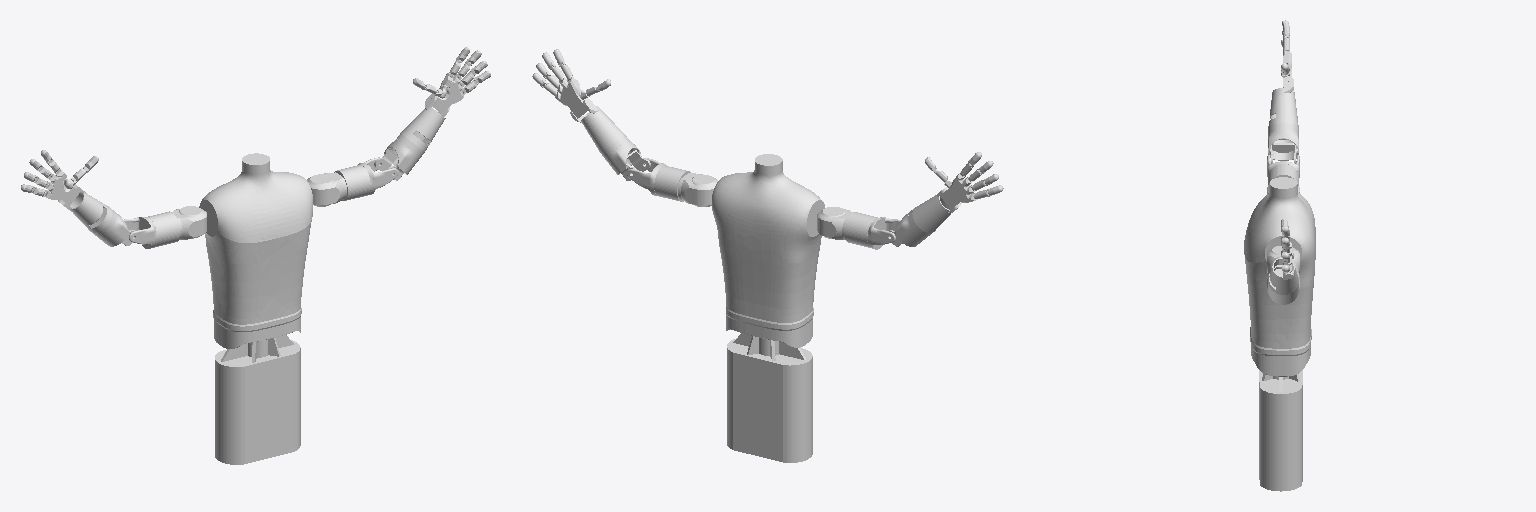
--- Facts derived from the render (not from the file) ---
Views: 3 orthographic renders of the robot side by side, from view 1: azimuth 30°, elevation 25°; view 2: azimuth 150°, elevation 25°; view 3: azimuth 270°, elevation 25°.
Robot: pib — 39 links, 38 joints (36 revolute, 2 fixed); root link base_link; default pose: all joints at 0.
Links seen in each view (by area): view 1: urdf_body, urdf_shoulder_horizontal, urdf_shoulder_horizontal_2, urdf_forearm, urdf_forearm_2, urdf_elbow-lower, urdf_elbow-upper_2, urdf_palm_left, urdf_palm_right, urdf_elbow-lower_2, urdf_elbow-upper; view 2: urdf_body, urdf_shoulder_horizontal, urdf_shoulder_horizontal_2, urdf_forearm, urdf_forearm_2, urdf_elbow-lower, urdf_elbow-upper_2, urdf_palm_left, urdf_palm_right, urdf_elbow-lower_2, urdf_elbow-upper; view 3: urdf_body, urdf_forearm_2, urdf_elbow-lower_2, urdf_forearm.
Link boxes in pixels (x1,y1,x2,y2): urdf_body: (199, 153, 312, 464); urdf_shoulder_horizontal: (307, 165, 370, 206); urdf_shoulder_horizontal_2: (148, 206, 206, 247); urdf_forearm: (397, 94, 449, 156); urdf_forearm_2: (58, 184, 115, 235); urdf_elbow-lower: (374, 139, 420, 180); urdf_elbow-upper_2: (124, 217, 156, 248); urdf_palm_left: (432, 73, 465, 114); urdf_palm_right: (43, 169, 79, 205); urdf_elbow-lower_2: (95, 212, 134, 246); urdf_elbow-upper: (358, 157, 397, 195); urdf_body: (712, 154, 824, 462); urdf_shoulder_horizontal: (654, 166, 717, 206); urdf_shoulder_horizontal_2: (817, 207, 877, 247); urdf_forearm: (570, 98, 628, 157); urdf_forearm_2: (908, 187, 960, 235); urdf_elbow-lower: (605, 140, 650, 180); urdf_elbow-upper_2: (867, 217, 900, 249); urdf_palm_left: (555, 76, 587, 118); urdf_palm_right: (940, 172, 977, 209); urdf_elbow-lower_2: (889, 212, 927, 246); urdf_elbow-upper: (627, 158, 666, 195); urdf_body: (1244, 177, 1315, 491); urdf_forearm_2: (1268, 76, 1298, 139); urdf_elbow-lower_2: (1268, 130, 1298, 163); urdf_forearm: (1268, 252, 1298, 296).
Size in the robot's own frame: 1.58 by 0.2094 by 1.12 metres.
Meshes: 15 distinct files referenced, 33 mesh visuals loaded (11 binary STL); not drawn: 5 (reference not matched to a file when rendering).

robot.urdf — pib:
<robot name="pib">
<link name="base_link"></link>
<joint name="base_link_to_base" type="fixed">
<parent link="base_link"/>
<child link="urdf_body" />
<origin rpy="0.0 0 0" xyz="0 0 0"/>
</joint>
<link name="urdf_body">
<visual>
<origin xyz="-0.013132987582171207555 0.012566156500572068372 0.89118743593020444127" rpy="0 -0 0" />
<geometry>
<mesh filename="./urdf_body.stl"/>
</geometry>
<material name="urdf_body_material">
<color rgba="0.90196078431372550543 0.90196078431372550543 0.90196078431372550543 1.0"/>
</material>
</visual>
<collision>
<origin xyz="-0.013132987582171207555 0.012566156500572068372 0.89118743593020444127" rpy="0 -0 0" />
<geometry>
<mesh filename="./urdf_body.stl"/>
</geometry>
</collision>
<inertial>
<origin xyz="-0.013148572994685497894 0.0062708327937176754074 0.3390600811380728441" rpy="0 0 0"/>
<mass value="14.742451245988362984" />
<inertia ixx="1.0215370085595509853" ixy="8.1750220923067520971e-07"  ixz="2.0415306187995358275e-05" iyy="1.0802675023496579598" iyz="-0.0086376981174313364337" izz="0.10390259338508466003" />
</inertial>
</link>

<link name="urdf_head_base">
<visual>
<origin xyz="0 1.7347234759768070944e-18 0.096600000000000019185" rpy="3.141592653589793116 -0 -5.2519588314391687104e-19" />
<geometry>
<mesh filename="./urdf_head_base.stl"/>
</geometry>
<material name="urdf_head_base_material">
<color rgba="0.90196078431372550543 0.90196078431372550543 0.90196078431372550543 1.0"/>
</material>
</visual>
<collision>
<origin xyz="0 1.7347234759768070944e-18 0.096600000000000019185" rpy="3.141592653589793116 -0 -5.2519588314391687104e-19" />
<geometry>
<mesh filename="./urdf_head_base.stl"/>
</geometry>
</collision>
<inertial>
<origin xyz="-3.4780229255899585664e-05 0.017377672968967167177 -0.012899139977839313431" rpy="0 0 0"/>
<mass value="0.2752183787437366691" />
<inertia ixx="0.00026904306851896188585" ixy="4.9266012202656627337e-07"  ixz="-1.9175035112766405392e-09" iyy="0.00016134789791135662157" iyz="-1.2039857658914160575e-08" izz="0.00039920756811286805697" />
</inertial>
</link>

<link name="urdf_head">
<visual>
<origin xyz="0.048000000000000014877 0.10950000000000004174 -0.041750000000000002387" rpy="1.570796326794896558 1.570796326794896558 0" />
<geometry>
<mesh filename="./urdf_head.stl"/>
</geometry>
<material name="urdf_head_material">
<color rgba="0.90196078431372550543 0.90196078431372550543 0.90196078431372550543 1.0"/>
</material>
</visual>
<collision>
<origin xyz="0.048000000000000014877 0.10950000000000004174 -0.041750000000000002387" rpy="1.570796326794896558 1.570796326794896558 0" />
<geometry>
<mesh filename="./urdf_head.stl"/>
</geometry>
</collision>
<inertial>
<origin xyz="-0.010752349739485883573 -0.069547124687647815522 -0.041747581920920449894" rpy="0 0 0"/>
<mass value="0.51230822453493207735" />
<inertia ixx="0.0045866170752479808875" ixy="0.00041100822612432741203"  ixz="2.2896139325064005489e-06" iyy="0.003546183171123245409" iyz="5.7328545887266115502e-07" izz="0.0027748989212668900665" />
</inertial>
</link>

<link name="urdf_camera_link">
<visual>
<origin xyz="-0.00024999999999998807898 0.10823202427590994379 0.09539999999999999869" rpy="1.570796326794896558 2.7161820220443780355e-20 0" />
<geometry>
<mesh filename="./urdf_camera_link.stl"/>
</geometry>
<material name="urdf_camera_link_material">
<color rgba="0 0 0 1.0"/>
</material>
</visual>
<collision>
<origin xyz="-0.00024999999999998807898 0.10823202427590994379 0.09539999999999999869" rpy="1.570796326794896558 2.7161820220443780355e-20 0" />
<geometry>
<mesh filename="./urdf_camera_link.stl"/>
</geometry>
</collision>
<inertial>
<origin xyz="2.4053025196590915868e-16 4.1633363423443370266e-17 -0.0015000000000000152101" rpy="0 0 0"/>
<mass value="0.011584290081750131529" />
<inertia ixx="3.233128653290471716e-07" ixy="0"  ixz="-3.1009920596281262703e-24" iyy="6.4039677650293876714e-06" iyz="0" izz="6.7099041952358088781e-06" />
</inertial>
</link>

<joint name="camera" type="fixed">
<origin xyz="-0.04740000000000000463 0.0012679757240900979554 -0.04199999999999999567" rpy="2.4502643717466608141e-31 1.570796326794896558 0" />
<parent link="urdf_head" />
<child link="urdf_camera_link" />
<axis xyz="0 0 1"/>
<limit effort="1" velocity="20" />
<joint_properties friction="0.0"/>
</joint>

<joint name="head_vertical" type="revolute">
<origin xyz="-0.041250000000000008882 0.048000000000000021816 -0.012899999999999911537" rpy="1.570796326794896558 -2.7286008646779410258e-19 -1.5707963267948970021" />
<parent link="urdf_head_base" />
<child link="urdf_head" />
<axis xyz="0 0 1"/>
<limit effort="1" velocity="20" lower="-0.785398163397448279" upper="1.2217304763960306069"/>
<joint_properties friction="0.0"/>
</joint>

<joint name="head_horizontal" type="revolute">
<origin xyz="-0.013133585993821498758 0.012566127962098751214 0.98718743593020441551" rpy="3.141592653589793116 1.265248665445670253e-22 -0.0029026197161877579159" />
<parent link="urdf_body" />
<child link="urdf_head_base" />
<axis xyz="0 0 1"/>
<limit effort="1" velocity="20" lower="-1.570796326794896558" upper="1.570796326794896558"/>
<joint_properties friction="0.0"/>
</joint>

<link name="urdf_shoulder_vertical">
<visual>
<origin xyz="-4.7531423241764514387e-16 1.1102230246251565404e-16 -0.0060000000000000053291" rpy="3.141592653589793116 -1.570796326794896558 0" />
<geometry>
<mesh filename="./urdf_shoulder_vertical.stl"/>
</geometry>
<material name="urdf_shoulder_vertical_material">
<color rgba="0.90196078431372550543 0.90196078431372550543 0.90196078431372550543 1.0"/>
</material>
</visual>
<collision>
<origin xyz="-4.7531423241764514387e-16 1.1102230246251565404e-16 -0.0060000000000000053291" rpy="3.141592653589793116 -1.570796326794896558 0" />
<geometry>
<mesh filename="./urdf_shoulder_vertical.stl"/>
</geometry>
</collision>
<inertial>
<origin xyz="-4.7586038048089654607e-16 1.006971519153712357e-16 0.042642994191431304873" rpy="0 0 0"/>
<mass value="0.25000000000000005551" />
<inertia ixx="0.00072724079589201362679" ixy="-3.0188325501274182905e-66"  ixz="2.1951035501926014558e-43" iyy="0.00047340124215038056074" iyz="1.5330919207955027425e-42" izz="0.00067680797638553576341" />
</inertial>
</link>

<link name="urdf_shoulder_horizontal">
<visual>
<origin xyz="0 -0.06500000000000000222 -0.037200000000000010836" rpy="-1.570796326794896558 1.1055592553687724786e-32 1.570796326794896558" />
<geometry>
<mesh filename="./urdf_shoulder_horizontal.stl"/>
</geometry>
<material name="urdf_shoulder_horizontal_material">
<color rgba="0.90196078431372550543 0.90196078431372550543 0.90196078431372550543 1.0"/>
</material>
</visual>
<collision>
<origin xyz="0 -0.06500000000000000222 -0.037200000000000010836" rpy="-1.570796326794896558 1.1055592553687724786e-32 1.570796326794896558" />
<geometry>
<mesh filename="./urdf_shoulder_horizontal.stl"/>
</geometry>
</collision>
<inertial>
<origin xyz="0.03141565709210976387 1.2792556070007066182e-08 -0.037199999558260789245" rpy="0 0 0"/>
<mass value="0.3499999999999999778" />
<inertia ixx="0.00037058906386676219221" ixy="1.2826983306073644798e-10"  ixz="7.7908665627271018081e-11" iyy="0.00079724647302412360392" iyz="1.228809034117499628e-10" izz="0.00084576167306383361229" />
</inertial>
</link>

<link name="urdf_elbow-upper">
<visual>
<origin xyz="-0.065000113126188405199 8.9579510675896756311e-07 0.14000000000000004108" rpy="-8.5703882523829208117e-32 -1.4514740933281445424e-31 -8.4163138569722206779e-32" />
<geometry>
<mesh filename="./urdf_elbow-upper.stl"/>
</geometry>
<material name="urdf_elbow-upper_material">
<color rgba="0.90196078431372550543 0.90196078431372550543 0.90196078431372550543 1.0"/>
</material>
</visual>
<collision>
<origin xyz="-0.065000113126188405199 8.9579510675896756311e-07 0.14000000000000004108" rpy="-8.5703882523829208117e-32 -1.4514740933281445424e-31 -8.4163138569722206779e-32" />
<geometry>
<mesh filename="./urdf_elbow-upper.stl"/>
</geometry>
</collision>
<inertial>
<origin xyz="-4.4526328486782507099e-07 -0.0056136834333763933197 -0.021290240894863005083" rpy="0 0 0"/>
<mass value="0.21700098433583239754" />
<inertia ixx="0.00020767324075755694561" ixy="-4.6362216441835536371e-10"  ixz="-1.1291109162268427319e-09" iyy="0.0003257830855249441767" iyz="-2.9777665381350169389e-05" izz="0.00031634043511068947289" />
</inertial>
</link>

<link name="urdf_elbow-lower">
<visual>
<origin xyz="-0.13812409200567399292 -0.16782384366109792673 0.027200113126188380647" rpy="2.356194490192344837 1.570796326794896558 0" />
<geometry>
<mesh filename="./urdf_elbow-lower.stl"/>
</geometry>
<material name="urdf_elbow-lower_material">
<color rgba="0.90196078431372550543 0.90196078431372550543 0.90196078431372550543 1.0"/>
</material>
</visual>
<collision>
<origin xyz="-0.13812409200567399292 -0.16782384366109792673 0.027200113126188380647" rpy="2.356194490192344837 1.570796326794896558 0" />
<geometry>
<mesh filename="./urdf_elbow-lower.stl"/>
</geometry>
</collision>
<inertial>
<origin xyz="0.043032345513961067773 0.015369344989338867835 -0.03780034354696912291" rpy="0 0 0"/>
<mass value="0.14960335360770107838" />
<inertia ixx="0.00022936722111307648528" ixy="-5.4529749402997813423e-06"  ixz="-4.3421495042449351756e-09" iyy="0.0002490971711453321088" iyz="1.4345465837917943145e-09" izz="0.00016870950008625071694" />
</inertial>
</link>

<link name="urdf_forearm">
<visual>
<origin xyz="-0.064741926567294549866 -0.00046870620534839035898 0.3034378600000000592" rpy="2.6458629090172392865e-18 1.0970096963229695419e-30 -6.1629758220391547298e-31" />
<geometry>
<mesh filename="./urdf_forearm.stl"/>
</geometry>
<material name="urdf_forearm_material">
<color rgba="0.90196078431372550543 0.90196078431372550543 0.90196078431372550543 1.0"/>
</material>
</visual>
<collision>
<origin xyz="-0.064741926567294549866 -0.00046870620534839035898 0.3034378600000000592" rpy="2.6458629090172392865e-18 1.0970096963229695419e-30 -6.1629758220391547298e-31" />
<geometry>
<mesh filename="./urdf_forearm.stl"/>
</geometry>
</collision>
<inertial>
<origin xyz="0.0018761096199147175856 -4.4442311054501113136e-07 -0.050267094888194197022" rpy="0 0 0"/>
<mass value="0.057000000000000022871" />
<inertia ixx="0.00018119182777985410964" ixy="-2.0579821295390018919e-10"  ixz="7.3610097522744023874e-06" iyy="0.00017182225954469557291" iyz="-2.1213780997072684154e-09" izz="6.8995586508010560292e-05" />
</inertial>
</link>

<link name="urdf_palm_left">
<visual>
<origin xyz="0.00299999999999990552 -0.10000000000000008882 -0.18269999999999986251" rpy="1.570796326794896558 1.5707963267948961139 0" />
<geometry>
<mesh filename="./urdf_palm_left.stl"/>
</geometry>
<material name="urdf_palm_left_material">
<color rgba="0.90196078431372550543 0.90196078431372550543 0.90196078431372550543 1.0"/>
</material>
</visual>
<collision>
<origin xyz="0.00299999999999990552 -0.10000000000000008882 -0.18269999999999986251" rpy="1.570796326794896558 1.5707963267948961139 0" />
<geometry>
<mesh filename="./urdf_palm_left.stl"/>
</geometry>
</collision>
<inertial>
<origin xyz="0.0020987363637513193476 -0.041510352722250141999 -0.022975098204301658278" rpy="0 0 0"/>
<mass value="0.20306541431131835962" />
<inertia ixx="0.00025623389388053878632" ixy="-4.7921056976145965743e-07"  ixz="-1.9621105672899708542e-06" iyy="8.7454457046403348162e-05" iyz="-7.343814954060609156e-06" izz="0.00019183883445444719295" />
</inertial>
</link>

<link name="urdf_thumb_rotator_left">
<visual>
<origin xyz="0.088236460769996402642 -0.078348848981385763035 -0.48802748055539579841" rpy="-2.932153143350473723 -2.782946186187463531e-17 -3.141592653589793116" />
<geometry>
<mesh filename="./urdf_thumb_rotator_left.stl"/>
</geometry>
<material name="urdf_thumb_rotator_left_material">
<color rgba="0.90196078431372550543 0.90196078431372550543 0.90196078431372550543 1.0"/>
</material>
</visual>
<collision>
<origin xyz="0.088236460769996402642 -0.078348848981385763035 -0.48802748055539579841" rpy="-2.932153143350473723 -2.782946186187463531e-17 -3.141592653589793116" />
<geometry>
<mesh filename="./urdf_thumb_rotator_left.stl"/>
</geometry>
</collision>
<inertial>
<origin xyz="-0.0025419525965153094704 0.00063582665531473903098 -0.005730676783377131045" rpy="0 0 0"/>
<mass value="0.019598631427577496017" />
<inertia ixx="2.3515796946329439863e-06" ixy="1.5634947145857046287e-07"  ixz="-3.8747705154697874774e-07" iyy="2.9068174466283953522e-06" iyz="6.3565590282101302119e-08" izz="1.9521874764506291667e-06" />
</inertial>
</link>

<link name="urdf_finger_proximal">
<visual>
<origin xyz="-0.081395940769996233399 -0.54244426802547995869 -0.061495438727617535157" rpy="1.7453292519943297556 -3.6417218234288628174e-16 -1.5556491259539178272e-16" />
<geometry>
<mesh filename="./urdf_finger_proximal.stl"/>
</geometry>
<material name="urdf_finger_proximal_material">
<color rgba="0.90196078431372550543 0.90196078431372550543 0.90196078431372550543 1.0"/>
</material>
</visual>
<collision>
<origin xyz="-0.081395940769996233399 -0.54244426802547995869 -0.061495438727617535157" rpy="1.7453292519943297556 -3.6417218234288628174e-16 -1.5556491259539178272e-16" />
<geometry>
<mesh filename="./urdf_finger_proximal.stl"/>
</geometry>
</collision>
<inertial>
<origin xyz="-0.002337546325976047612 0.023999998253825594041 -3.4234414331146818838e-09" rpy="0 0 0"/>
<mass value="0.017237431172515048361" />
<inertia ixx="3.2796100873748338587e-06" ixy="-2.4787878097927551186e-13"  ixz="4.3676988672143376902e-13" iyy="8.3091893062354247182e-07" iyz="-6.0838833034707138977e-14" izz="3.2415371409603653756e-06" />
</inertial>
</link>

<link name="urdf_finger_distal">
<visual>
<origin xyz="-0.081281787715045794585 -0.59056528241925143607 -0.06149543872761764618" rpy="1.7453292519943297556 -2.8784252333169289564e-16 3.9639590148360196859e-17" />
<geometry>
<mesh filename="./urdf_finger_distal.stl"/>
</geometry>
<material name="urdf_finger_distal_material">
<color rgba="0.90196078431372550543 0.90196078431372550543 0.90196078431372550543 1.0"/>
</material>
</visual>
<collision>
<origin xyz="-0.081281787715045794585 -0.59056528241925143607 -0.06149543872761764618" rpy="1.7453292519943297556 -2.8784252333169289564e-16 3.9639590148360196859e-17" />
<geometry>
<mesh filename="./urdf_finger_distal.stl"/>
</geometry>
</collision>
<inertial>
<origin xyz="-0.004057225687468912767 0.024625911989551330095 -1.8077329383414664221e-08" rpy="0 0 0"/>
<mass value="0.017727854940120840038" />
<inertia ixx="3.2103559738202121377e-06" ixy="4.3523325608261775987e-07"  ixz="2.2812163347891701524e-12" iyy="9.9539225899604394283e-07" iyz="-6.0407081610536284176e-12" izz="3.1902417616991331003e-06" />
</inertial>
</link>

<joint name="thumb_left_distal" type="revolute">
<origin xyz="-4.4408920985006261617e-16 0.0480000000000008753 1.1102230246251565404e-16" rpy="3.4043456053708097799e-15 1.6500215347754368378e-14 -1.4669653638037516986e-15" />
<parent link="urdf_finger_proximal" />
<child link="urdf_finger_distal" />
<axis xyz="0 0 1"/>
<limit effort="1" velocity="20" lower="0" upper="1.570796326794896558"/>
<joint_properties friction="0.0"/>
</joint>

<joint name="thumb_left_proximal" type="revolute">
<origin xyz="-0.01999999999999822059 0.0013202599999988413881 -0.010564960629478425957" rpy="-1.6969431916550940149e-15 1.0471975511965765371 1.5707963267949003328" />
<parent link="urdf_thumb_rotator_left" />
<child link="urdf_finger_proximal" />
<axis xyz="0 0 1"/>
<limit effort="1" velocity="20" lower="0" upper="1.570796326794896558"/>
<joint_properties friction="0.0"/>
</joint>

<joint name="thumb_left_opposition" type="revolute">
<origin xyz="0.0098405199999991727067 -0.037730520924623256462 -0.049771355293541652554" rpy="-3.1415926535897491512 -1.3613568165555565148 -1.5707963267948970021" />
<parent link="urdf_palm_left" />
<child link="urdf_thumb_rotator_left" />
<axis xyz="0 0 1"/>
<limit effort="1" velocity="20" lower="0" upper="1.570796326794896558"/>
<joint_properties friction="0.0"/>
</joint>

<link name="urdf_finger_proximal_2">
<visual>
<origin xyz="-0.081395940769996399933 -0.54244426802547995869 -0.061495438727617576791" rpy="1.7453292519943297556 -4.2001897567204022588e-16 1.9721522630525295135e-31" />
<geometry>
<mesh filename="./urdf_finger_proximal.stl"/>
</geometry>
<material name="urdf_finger_proximal_material">
<color rgba="0.90196078431372550543 0.90196078431372550543 0.90196078431372550543 1.0"/>
</material>
</visual>
<collision>
<origin xyz="-0.081395940769996399933 -0.54244426802547995869 -0.061495438727617576791" rpy="1.7453292519943297556 -4.2001897567204022588e-16 1.9721522630525295135e-31" />
<geometry>
<mesh filename="./urdf_finger_proximal.stl"/>
</geometry>
</collision>
<inertial>
<origin xyz="-0.002337546325976241901 0.023999998253825594041 -3.4234414747480461344e-09" rpy="0 0 0"/>
<mass value="0.017237431172515048361" />
<inertia ixx="3.2796100873748338587e-06" ixy="-2.4787878050339230564e-13"  ixz="4.3676988694551090822e-13" iyy="8.3091893062354247182e-07" iyz="-6.0838833167056036986e-14" izz="3.2415371409603666462e-06" />
</inertial>
</link>

<link name="urdf_finger_distal_2">
<visual>
<origin xyz="-0.081281787715045752951 -0.59056528241925121403 -0.06149543872761764618" rpy="1.7453292519943297556 -2.9755429575730562007e-16 3.6977854932234928379e-32" />
<geometry>
<mesh filename="./urdf_finger_distal.stl"/>
</geometry>
<material name="urdf_finger_distal_material">
<color rgba="0.90196078431372550543 0.90196078431372550543 0.90196078431372550543 1.0"/>
</material>
</visual>
<collision>
<origin xyz="-0.081281787715045752951 -0.59056528241925121403 -0.06149543872761764618" rpy="1.7453292519943297556 -2.9755429575730562007e-16 3.6977854932234928379e-32" />
<geometry>
<mesh filename="./urdf_finger_distal.stl"/>
</geometry>
</collision>
<inertial>
<origin xyz="-0.0040572256874689266448 0.024625911989551552139 -1.8077329355659088606e-08" rpy="0 0 0"/>
<mass value="0.017727854940120840038" />
<inertia ixx="3.2103559738202121377e-06" ixy="4.3523325608261749517e-07"  ixz="2.2812163348872217512e-12" iyy="9.9539225899604394283e-07" iyz="-6.0407081605918645342e-12" izz="3.1902417616991356414e-06" />
</inertial>
</link>

<joint name="index_left_distal" type="revolute">
<origin xyz="-3.1225022567582527699e-16 0.048000000000000042633 -1.4294121442048890458e-15" rpy="-5.7518190022400760837e-15 1.1644799210561622379e-15 -2.9122888551423500944e-16" />
<parent link="urdf_finger_proximal_2" />
<child link="urdf_finger_distal_2" />
<axis xyz="0 0 1"/>
<limit effort="1" velocity="20" lower="0" upper="1.570796326794896558"/>
<joint_properties friction="0.0"/>
</joint>

<joint name="index_left_proximal" type="revolute">
<origin xyz="0.0029999999999996383726 -0.088617510000000399017 -0.058501979999998954263" rpy="-0.17453292519941709937 3.5838313298522497607e-15 3.1415926535897922278" />
<parent link="urdf_palm_left" />
<child link="urdf_finger_proximal_2" />
<axis xyz="0 0 1"/>
<limit effort="1" velocity="20" lower="0" upper="1.570796326794896558"/>
<joint_properties friction="0.0"/>
</joint>

<link name="urdf_finger_proximal_3">
<visual>
<origin xyz="-0.081395940769996399933 -0.54244426802548006972 -0.061495438727617479646" rpy="1.7453292519943297556 -4.2001897567205274905e-16 -3.0854281107244765038e-30" />
<geometry>
<mesh filename="./urdf_finger_proximal.stl"/>
</geometry>
<material name="urdf_finger_proximal_material">
<color rgba="0.90196078431372550543 0.90196078431372550543 0.90196078431372550543 1.0"/>
</material>
</visual>
<collision>
<origin xyz="-0.081395940769996399933 -0.54244426802548006972 -0.061495438727617479646" rpy="1.7453292519943297556 -4.2001897567205274905e-16 -3.0854281107244765038e-30" />
<geometry>
<mesh filename="./urdf_finger_proximal.stl"/>
</geometry>
</collision>
<inertial>
<origin xyz="-0.002337546325976241901 0.023999998253825594041 -3.423441391481318874e-09" rpy="0 0 0"/>
<mass value="0.017237431172515048361" />
<inertia ixx="3.2796100873748338587e-06" ixy="-2.4787878050339235613e-13"  ixz="4.3676988694551090822e-13" iyy="8.3091893062354278945e-07" iyz="-6.0838833519247229038e-14" izz="3.2415371409603666462e-06" />
</inertial>
</link>

<link name="urdf_finger_distal_3">
<visual>
<origin xyz="-0.081281787715045752951 -0.59056528241925110301 -0.06149543872761764618" rpy="1.7453292519943299776 -2.9755429575730261254e-16 -1.9651595130191685214e-30" />
<geometry>
<mesh filename="./urdf_finger_distal.stl"/>
</geometry>
<material name="urdf_finger_distal_material">
<color rgba="0.90196078431372550543 0.90196078431372550543 0.90196078431372550543 1.0"/>
</material>
</visual>
<collision>
<origin xyz="-0.081281787715045752951 -0.59056528241925110301 -0.06149543872761764618" rpy="1.7453292519943299776 -2.9755429575730261254e-16 -1.9651595130191685214e-30" />
<geometry>
<mesh filename="./urdf_finger_distal.stl"/>
</geometry>
</collision>
<inertial>
<origin xyz="-0.0040572256874689266448 0.024625911989551663162 -1.8077329369536876413e-08" rpy="0 0 0"/>
<mass value="0.017727854940120840038" />
<inertia ixx="3.2103559738202121377e-06" ixy="4.3523325608261749517e-07"  ixz="2.2812163349017951549e-12" iyy="9.9539225899604394283e-07" iyz="-6.0407081609205411963e-12" izz="3.1902417616991343709e-06" />
</inertial>
</link>

<joint name="middle_left_distal" type="revolute">
<origin xyz="1.0408340855860842566e-17 0.047999999999999598543 2.2204460492503130808e-16" rpy="-1.3339344563306795657e-16 -1.2246467991475767999e-16 -1.2183917479386091882e-13" />
<parent link="urdf_finger_proximal_3" />
<child link="urdf_finger_distal_3" />
<axis xyz="0 0 1"/>
<limit effort="1" velocity="20" lower="0" upper="1.570796326794896558"/>
<joint_properties friction="0.0"/>
</joint>

<joint name="middle_left_proximal" type="revolute">
<origin xyz="0.0029999999999999922562 -0.10000000000000008882 -0.032699999999999840306" rpy="1.1079694868186893038e-14 9.0926631032754174864e-15 -3.1415926535896958605" />
<parent link="urdf_palm_left" />
<child link="urdf_finger_proximal_3" />
<axis xyz="0 0 1"/>
<limit effort="1" velocity="20" lower="0" upper="1.570796326794896558"/>
<joint_properties friction="0.0"/>
</joint>

<link name="urdf_finger_proximal_4">
<visual>
<origin xyz="-0.081395940769996386055 -0.54244426802547995869 -0.061495438727617701691" rpy="1.7453292519943297556 -4.200189756720378593e-16 2.571501661745837311e-30" />
<geometry>
<mesh filename="./urdf_finger_proximal.stl"/>
</geometry>
<material name="urdf_finger_proximal_material">
<color rgba="0.90196078431372550543 0.90196078431372550543 0.90196078431372550543 1.0"/>
</material>
</visual>
<collision>
<origin xyz="-0.081395940769996386055 -0.54244426802547995869 -0.061495438727617701691" rpy="1.7453292519943297556 -4.200189756720378593e-16 2.571501661745837311e-30" />
<geometry>
<mesh filename="./urdf_finger_proximal.stl"/>
</geometry>
</collision>
<inertial>
<origin xyz="-0.0023375463259762280233 0.023999998253825816086 -3.4234416135259242126e-09" rpy="0 0 0"/>
<mass value="0.017237431172515048361" />
<inertia ixx="3.2796100873748338587e-06" ixy="-2.4787878050339235613e-13"  ixz="4.3676988694551100919e-13" iyy="8.3091893062354289533e-07" iyz="-6.083883336851262128e-14" izz="3.2415371409603683402e-06" />
</inertial>
</link>

<link name="urdf_finger_distal_4">
<visual>
<origin xyz="-0.081281787715045739073 -0.59056528241925121403 -0.061495438727617590668" rpy="1.7453292519943297556 -2.9755429575730532425e-16 -1.4637067577342992483e-30" />
<geometry>
<mesh filename="./urdf_finger_distal.stl"/>
</geometry>
<material name="urdf_finger_distal_material">
<color rgba="0.90196078431372550543 0.90196078431372550543 0.90196078431372550543 1.0"/>
</material>
</visual>
<collision>
<origin xyz="-0.081281787715045739073 -0.59056528241925121403 -0.061495438727617590668" rpy="1.7453292519943297556 -2.9755429575730532425e-16 -1.4637067577342992483e-30" />
<geometry>
<mesh filename="./urdf_finger_distal.stl"/>
</geometry>
</collision>
<inertial>
<origin xyz="-0.004057225687468912767 0.024625911989551552139 -1.8077329383414664221e-08" rpy="0 0 0"/>
<mass value="0.017727854940120840038" />
<inertia ixx="3.2103559738202121377e-06" ixy="4.3523325608261749517e-07"  ixz="2.2812163348542084398e-12" iyy="9.9539225899604394283e-07" iyz="-6.040708160463206445e-12" izz="3.1902417616991331003e-06" />
</inertial>
</link>

<joint name="ring_left_distal" type="revolute">
<origin xyz="-8.7083118494035716139e-16 0.04799999999999893241 -1.2767564783189300215e-15" rpy="-1.5739957264388719553e-14 2.0831010700593948281e-14 -1.2533702486397906555e-15" />
<parent link="urdf_finger_proximal_4" />
<child link="urdf_finger_distal_4" />
<axis xyz="0 0 1"/>
<limit effort="1" velocity="20" lower="0" upper="1.570796326794896558"/>
<joint_properties friction="0.0"/>
</joint>

<joint name="ring_left_proximal" type="revolute">
<origin xyz="0.0030000000000007624734 -0.088617510000000399017 -0.0068980200000007818595" rpy="0.17453292519945326489 -5.4736395411790019454e-15 3.1415926535897926719" />
<parent link="urdf_palm_left" />
<child link="urdf_finger_proximal_4" />
<axis xyz="0 0 1"/>
<limit effort="1" velocity="20" lower="0" upper="1.570796326794896558"/>
<joint_properties friction="0.0"/>
</joint>

<link name="urdf_finger_proximal_5">
<visual>
<origin xyz="-0.081395940769996399933 -0.54244426802548006972 -0.061495438727617757202" rpy="1.7453292519943297556 -4.2001897567204091614e-16 -1.5715588346199844561e-31" />
<geometry>
<mesh filename="./urdf_finger_proximal.stl"/>
</geometry>
<material name="urdf_finger_proximal_material">
<color rgba="0.90196078431372550543 0.90196078431372550543 0.90196078431372550543 1.0"/>
</material>
</visual>
<collision>
<origin xyz="-0.081395940769996399933 -0.54244426802548006972 -0.061495438727617757202" rpy="1.7453292519943297556 -4.2001897567204091614e-16 -1.5715588346199844561e-31" />
<geometry>
<mesh filename="./urdf_finger_proximal.stl"/>
</geometry>
</collision>
<inertial>
<origin xyz="-0.002337546325976241901 0.023999998253825483019 -3.4234416135259242126e-09" rpy="0 0 0"/>
<mass value="0.017237431172515048361" />
<inertia ixx="3.2796100873748338587e-06" ixy="-2.4787878050339230564e-13"  ixz="4.3676988694551090822e-13" iyy="8.309189306235425777e-07" iyz="-6.0838833337147271874e-14" izz="3.2415371409603674932e-06" />
</inertial>
</link>

<link name="urdf_finger_distal_5">
<visual>
<origin xyz="-0.081281787715045766829 -0.5905652824192515471 -0.06149543872761764618" rpy="1.7453292519943297556 -2.9755429575730226741e-16 2.2957084937095851368e-31" />
<geometry>
<mesh filename="./urdf_finger_distal.stl"/>
</geometry>
<material name="urdf_finger_distal_material">
<color rgba="0.90196078431372550543 0.90196078431372550543 0.90196078431372550543 1.0"/>
</material>
</visual>
<collision>
<origin xyz="-0.081281787715045766829 -0.5905652824192515471 -0.06149543872761764618" rpy="1.7453292519943297556 -2.9755429575730226741e-16 2.2957084937095851368e-31" />
<geometry>
<mesh filename="./urdf_finger_distal.stl"/>
</geometry>
</collision>
<inertial>
<origin xyz="-0.0040572256874689405226 0.02462591198955110805 -1.8077329411170239837e-08" rpy="0 0 0"/>
<mass value="0.017727854940120840038" />
<inertia ixx="3.2103559738202121377e-06" ixy="4.3523325608261744223e-07"  ixz="2.2812163348647667056e-12" iyy="9.9539225899604373107e-07" iyz="-6.0407081611337760798e-12" izz="3.1902417616991343709e-06" />
</inertial>
</link>

<joint name="pinky_left_distal" type="revolute">
<origin xyz="6.9388939039072283776e-17 0.047999999999999376499 0" rpy="1.3396059197522454079e-14 1.407467738322971551e-14 4.4292844687371071979e-16" />
<parent link="urdf_finger_proximal_5" />
<child link="urdf_finger_distal_5" />
<axis xyz="0 0 1"/>
<limit effort="1" velocity="20" lower="0" upper="1.570796326794896558"/>
<joint_properties friction="0.0"/>
</joint>

<joint name="pinky_left_proximal" type="revolute">
<origin xyz="0.0029999999999999714395 -0.075546140000001926751 0.015420549999999838553" rpy="0.31415926535898369698 1.5315909376505916669e-14 -3.1415926535897886751" />
<parent link="urdf_palm_left" />
<child link="urdf_finger_proximal_5" />
<axis xyz="0 0 1"/>
<limit effort="1" velocity="20" lower="0" upper="1.570796326794896558"/>
<joint_properties friction="0.0"/>
</joint>

<joint name="wrist_left" type="revolute">
<origin xyz="0.014999999999999440864 0.02600000000000035616 -0.15439999999999987068" rpy="1.5707963267948970021 -3.4345772533683209822e-16 -3.1415926535897868987" />
<parent link="urdf_forearm" />
<child link="urdf_palm_left" />
<axis xyz="0 0 1"/>
<limit effort="1" velocity="20" lower="-0.52359877559829881566" upper="0.52359877559829881566"/>
<joint_properties friction="0.0"/>
</joint>

<joint name="forearm_left" type="revolute">
<origin xyz="0.076438243046265286207 0.046739758236430839489 -0.037799999999997932476" rpy="2.3561944901923501661 1.5707963267948858999 0" />
<parent link="urdf_elbow-lower" />
<child link="urdf_forearm" />
<axis xyz="0 0 1"/>
<limit effort="1" velocity="20" lower="-1.570796326794896558" upper="1.570796326794896558"/>
<joint_properties friction="0.0"/>
</joint>

<joint name="elbow_left" type="revolute">
<origin xyz="-0.03789999999999912883 -0.021000000000000018652 -0.076337859999999757576" rpy="3.1415926535897904515 1.5707963267948874542 0" />
<parent link="urdf_elbow-upper" />
<child link="urdf_elbow-lower" />
<axis xyz="0 0 1"/>
<limit effort="1" velocity="20" lower="-0.785398163397448279" upper="1.570796326794896558"/>
<joint_properties friction="0.0"/>
</joint>

<joint name="upper_arm_left" type="revolute">
<origin xyz="0.13999999999999934719 -1.1449174941446926823e-16 -0.037199999999995569944" rpy="-1.570796326794896558 -1.6674196038535082709e-15 1.5707963267948945596" />
<parent link="urdf_shoulder_horizontal" />
<child link="urdf_elbow-upper" />
<axis xyz="0 0 1"/>
<limit effort="1" velocity="20" lower="-1.570796326794896558" upper="1.570796326794896558"/>
<joint_properties friction="0.0"/>
</joint>

<joint name="shoulder_horizontal_left" type="revolute">
<origin xyz="-6.6266436782314031007e-16 -0.037495364809995046507 0.059000000000001023848" rpy="1.57079632679489678 -1.5707963267948954478 0" />
<parent link="urdf_shoulder_vertical" />
<child link="urdf_shoulder_horizontal" />
<axis xyz="0 0 1"/>
<limit effort="1" velocity="20" lower="-1.570796326794896558" upper="1.570796326794896558"/>
<joint_properties friction="0.0"/>
</joint>

<joint name="shoulder_vertical_left" type="revolute">
<origin xyz="0.1468670124178287073 0.012565599637333581956 0.83568828976250497664" rpy="-1.570796326794896558 -0 -1.570796326794896558" />
<parent link="urdf_body" />
<child link="urdf_shoulder_vertical" />
<axis xyz="0 0 1"/>
<limit effort="1" velocity="20" lower="-1.570796326794896558" upper="1.570796326794896558"/>
<joint_properties friction="0.0"/>
</joint>

<link name="urdf_shoulder_vertical_2">
<visual>
<origin xyz="-4.7531423241764514387e-16 1.1102230246251565404e-16 -0.0060000000000000053291" rpy="3.141592653589793116 -1.570796326794896558 0" />
<geometry>
<mesh filename="./urdf_shoulder_vertical.stl"/>
</geometry>
<material name="urdf_shoulder_vertical_material">
<color rgba="0.90196078431372550543 0.90196078431372550543 0.90196078431372550543 1.0"/>
</material>
</visual>
<collision>
<origin xyz="-4.7531423241764514387e-16 1.1102230246251565404e-16 -0.0060000000000000053291" rpy="3.141592653589793116 -1.570796326794896558 0" />
<geometry>
<mesh filename="./urdf_shoulder_vertical.stl"/>
</geometry>
</collision>
<inertial>
<origin xyz="-4.7586038048089654607e-16 1.006971519153712357e-16 0.042642994191431304873" rpy="0 0 0"/>
<mass value="0.25000000000000005551" />
<inertia ixx="0.00072724079589201362679" ixy="-4.3924215229801008264e-76"  ixz="5.7948769800549160682e-48" iyy="0.00047340124215038056074" iyz="1.2012875121614688988e-47" izz="0.00067680797638553576341" />
</inertial>
</link>

<link name="urdf_shoulder_horizontal_2">
<visual>
<origin xyz="0 0.06500000000000000222 -0.037200000000000010836" rpy="1.570796326794896558 1.4791141973171533545e-31 -1.570796326794896558" />
<geometry>
<mesh filename="./urdf_shoulder_horizontal.stl"/>
</geometry>
<material name="urdf_shoulder_horizontal_material">
<color rgba="0.90196078431372550543 0.90196078431372550543 0.90196078431372550543 1.0"/>
</material>
</visual>
<collision>
<origin xyz="0 0.06500000000000000222 -0.037200000000000010836" rpy="1.570796326794896558 1.4791141973171533545e-31 -1.570796326794896558" />
<geometry>
<mesh filename="./urdf_shoulder_horizontal.stl"/>
</geometry>
</collision>
<inertial>
<origin xyz="0.03141565709210976387 -1.2792556056129278375e-08 -0.037200000441739232426" rpy="0 0 0"/>
<mass value="0.3499999999999999778" />
<inertia ixx="0.00037058906386676219221" ixy="-1.2826983306073642213e-10"  ixz="-7.7908665627271018081e-11" iyy="0.00079724647302412317024" iyz="1.2288090341174993695e-10" izz="0.00084576167306383361229" />
</inertial>
</link>

<link name="urdf_elbow-upper_2">
<visual>
<origin xyz="-0.065000113126188405199 8.9579510664794526065e-07 0.14000000000000004108" rpy="-6.3221072019377880708e-31 -6.6980804052007131947e-31 -2.134136058872579744e-31" />
<geometry>
<mesh filename="./urdf_elbow-upper.stl"/>
</geometry>
<material name="urdf_elbow-upper_material">
<color rgba="0.90196078431372550543 0.90196078431372550543 0.90196078431372550543 1.0"/>
</material>
</visual>
<collision>
<origin xyz="-0.065000113126188405199 8.9579510664794526065e-07 0.14000000000000004108" rpy="-6.3221072019377880708e-31 -6.6980804052007131947e-31 -2.134136058872579744e-31" />
<geometry>
<mesh filename="./urdf_elbow-upper.stl"/>
</geometry>
</collision>
<inertial>
<origin xyz="-4.4526328486782507099e-07 -0.005613683433376504342 -0.021290240894863005083" rpy="0 0 0"/>
<mass value="0.21700098433583239754" />
<inertia ixx="0.00020767324075755694561" ixy="-4.6362216441835536371e-10"  ixz="-1.1291109162268427319e-09" iyy="0.0003257830855249441767" iyz="-2.9777665381350169389e-05" izz="0.00031634043511068947289" />
</inertial>
</link>

<link name="urdf_elbow-lower_2">
<visual>
<origin xyz="-0.13812409200567404843 -0.16782384366109792673 0.027200113126188370238" rpy="2.356194490192344837 1.570796326794896558 0" />
<geometry>
<mesh filename="./urdf_elbow-lower.stl"/>
</geometry>
<material name="urdf_elbow-lower_material">
<color rgba="0.90196078431372550543 0.90196078431372550543 0.90196078431372550543 1.0"/>
</material>
</visual>
<collision>
<origin xyz="-0.13812409200567404843 -0.16782384366109792673 0.027200113126188370238" rpy="2.356194490192344837 1.570796326794896558 0" />
<geometry>
<mesh filename="./urdf_elbow-lower.stl"/>
</geometry>
</collision>
<inertial>
<origin xyz="0.043032345513961067773 0.015369344989338893856 -0.037800343546969129849" rpy="0 0 0"/>
<mass value="0.14960335360770107838" />
<inertia ixx="0.00022936722111307664791" ixy="-5.4529749402997660957e-06"  ixz="-4.34214950424493683e-09" iyy="0.00024909717114533216301" iyz="1.4345465837917941077e-09" izz="0.00016870950008625071694" />
</inertial>
</link>

<link name="urdf_forearm_2">
<visual>
<origin xyz="-0.064741926567294535988 -0.00046870620534839035898 0.30343785999999994818" rpy="-1.8029589009935964194e-17 -3.1622885841323915255e-31 -1.0027142666266823121e-30" />
<geometry>
<mesh filename="./urdf_forearm.stl"/>
</geometry>
<material name="urdf_forearm_material">
<color rgba="0.90196078431372550543 0.90196078431372550543 0.90196078431372550543 1.0"/>
</material>
</visual>
<collision>
<origin xyz="-0.064741926567294535988 -0.00046870620534839035898 0.30343785999999994818" rpy="-1.8029589009935964194e-17 -3.1622885841323915255e-31 -1.0027142666266823121e-30" />
<geometry>
<mesh filename="./urdf_forearm.stl"/>
</geometry>
</collision>
<inertial>
<origin xyz="0.0018761096199147314634 -4.4442311062226879472e-07 -0.050267094888194252533" rpy="0 0 0"/>
<mass value="0.057000000000000022871" />
<inertia ixx="0.00018119182777985410964" ixy="-2.057982129522934684e-10"  ixz="7.3610097522744015404e-06" iyy="0.00017182225954469551869" iyz="-2.1213780996957606787e-09" izz="6.8995586508010533187e-05" />
</inertial>
</link>

<link name="urdf_palm_right">
<visual>
<origin xyz="-0.078395940769996452779 0.45626438159840421172 -0.025531293794651688245" rpy="-1.570796326794896336 -1.2246467991473490164e-16 -3.076797778756207795e-30" />
<geometry>
<mesh filename="./urdf_palm_right.stl"/>
</geometry>
<material name="urdf_palm_right_material">
<color rgba="0.90196078431372550543 0.90196078431372550543 0.90196078431372550543 1.0"/>
</material>
</visual>
<collision>
<origin xyz="-0.078395940769996452779 0.45626438159840421172 -0.025531293794651688245" rpy="-1.570796326794896336 -1.2246467991473490164e-16 -3.076797778756207795e-30" />
<geometry>
<mesh filename="./urdf_palm_right.stl"/>
</geometry>
</collision>
<inertial>
<origin xyz="0.0020986680458357220846 -0.041510795320818250076 -0.027423536937199139568" rpy="0 0 0"/>
<mass value="0.20307147221043780894" />
<inertia ixx="0.00025624174633090862933" ixy="-4.7993332158089023214e-07"  ixz="1.9636296955894468069e-06" iyy="8.7460207888254089302e-05" iyz="7.3474968615650606597e-06" izz="0.00019184139974401395409" />
</inertial>
</link>

<link name="urdf_thumb_rotator_right">
<visual>
<origin xyz="0.20176353923000328594 -0.015767430045240244524 -0.1936050527345201111" rpy="2.932153143350473723 -8.8846285663780224435e-17 -2.0357331866902574341e-30" />
<geometry>
<mesh filename="./urdf_thumb_rotator_right.stl"/>
</geometry>
<material name="urdf_thumb_rotator_right_material">
<color rgba="0.90196078431372550543 0.90196078431372550543 0.90196078431372550543 1.0"/>
</material>
</visual>
<collision>
<origin xyz="0.20176353923000328594 -0.015767430045240244524 -0.1936050527345201111" rpy="2.932153143350473723 -8.8846285663780224435e-17 -2.0357331866902574341e-30" />
<geometry>
<mesh filename="./urdf_thumb_rotator_right.stl"/>
</geometry>
</collision>
<inertial>
<origin xyz="0.002541953318371509285 0.00063582435660355235418 -0.0057306758962854531525" rpy="0 0 0"/>
<mass value="0.019598635830411437198" />
<inertia ixx="2.3515802423962070417e-06" ixy="-1.5634928930020457885e-07"  ixz="3.874770382340498427e-07" iyy="2.906817939103035437e-06" iyz="6.356602880407572152e-08" izz="1.9521876419465009579e-06" />
</inertial>
</link>

<link name="urdf_finger_proximal_6">
<visual>
<origin xyz="-0.081395940769996455444 -0.54244426802548018074 -0.061495438727617757202" rpy="1.7453292519943299776 -3.9219556740013627602e-16 -3.970824808953769797e-17" />
<geometry>
<mesh filename="./urdf_finger_proximal.stl"/>
</geometry>
<material name="urdf_finger_proximal_material">
<color rgba="0.90196078431372550543 0.90196078431372550543 0.90196078431372550543 1.0"/>
</material>
</visual>
<collision>
<origin xyz="-0.081395940769996455444 -0.54244426802548018074 -0.061495438727617757202" rpy="1.7453292519943299776 -3.9219556740013627602e-16 -3.970824808953769797e-17" />
<geometry>
<mesh filename="./urdf_finger_proximal.stl"/>
</geometry>
</collision>
<inertial>
<origin xyz="-0.0023375463259762696566 0.023999998253825483019 -3.4234416135259242126e-09" rpy="0 0 0"/>
<mass value="0.017237431172515048361" />
<inertia ixx="3.2796100873748338587e-06" ixy="-2.4787878060256274896e-13"  ixz="4.367698871267290956e-13" iyy="8.3091893062354268358e-07" iyz="-6.0838832948184635079e-14" izz="3.2415371409603666462e-06" />
</inertial>
</link>

<link name="urdf_finger_distal_6">
<visual>
<origin xyz="-0.081281787715045794585 -0.59056528241925121403 -0.06149543872761764618" rpy="1.7453292519943297556 -2.7978752318107391819e-16 1.2952772140919875963e-16" />
<geometry>
<mesh filename="./urdf_finger_distal.stl"/>
</geometry>
<material name="urdf_finger_distal_material">
<color rgba="0.90196078431372550543 0.90196078431372550543 0.90196078431372550543 1.0"/>
</material>
</visual>
<collision>
<origin xyz="-0.081281787715045794585 -0.59056528241925121403 -0.06149543872761764618" rpy="1.7453292519943297556 -2.7978752318107391819e-16 1.2952772140919875963e-16" />
<geometry>
<mesh filename="./urdf_finger_distal.stl"/>
</geometry>
</collision>
<inertial>
<origin xyz="-0.0040572256874689544004 0.024625911989551330095 -1.8077329411170239837e-08" rpy="0 0 0"/>
<mass value="0.017727854940120840038" />
<inertia ixx="3.2103559738202121377e-06" ixy="4.352332560826178128e-07"  ixz="2.2812163348780015954e-12" iyy="9.9539225899604373107e-07" iyz="-6.040708161054366741e-12" izz="3.1902417616991331003e-06" />
</inertial>
</link>

<joint name="thumb_right_distal" type="revolute">
<origin xyz="-3.1086244689504383132e-15 0.048000000000001444289 -5.5511151231257827021e-16" rpy="-2.4642190643016389988e-15 1.0357144347496651794e-14 3.8772474556332299561e-14" />
<parent link="urdf_finger_proximal_6" />
<child link="urdf_finger_distal_6" />
<axis xyz="0 0 1"/>
<limit effort="1" velocity="20" lower="0" upper="1.570796326794896558"/>
<joint_properties friction="0.0"/>
</joint>

<joint name="thumb_right_proximal" type="revolute">
<origin xyz="0.019999999999999858169 0.0013202599999999932445 -0.010564960629476649601" rpy="-3.1415926535897287231 1.0471975511966098438 1.5707963267949747177" />
<parent link="urdf_thumb_rotator_right" />
<child link="urdf_finger_proximal_6" />
<axis xyz="0 0 1"/>
<limit effort="1" velocity="20" lower="0" upper="1.570796326794896558"/>
<joint_properties friction="0.0"/>
</joint>

<joint name="thumb_right_opposition" type="revolute">
<origin xyz="0.0098405199999922025877 -0.03773052092462458873 -0.00062864470645057624054" rpy="5.4969693632471794453e-15 -1.3613568165555778311 1.5707963267948776842" />
<parent link="urdf_palm_right" />
<child link="urdf_thumb_rotator_right" />
<axis xyz="0 0 1"/>
<limit effort="1" velocity="20" lower="0" upper="1.570796326794896558"/>
<joint_properties friction="0.0"/>
</joint>

<link name="urdf_finger_proximal_7">
<visual>
<origin xyz="-0.081395940769996399933 -0.54244426802547995869 -0.061495438727617576791" rpy="1.7453292519943297556 -4.2001897567203805652e-16 2.3527212926223181141e-30" />
<geometry>
<mesh filename="./urdf_finger_proximal.stl"/>
</geometry>
<material name="urdf_finger_proximal_material">
<color rgba="0.90196078431372550543 0.90196078431372550543 0.90196078431372550543 1.0"/>
</material>
</visual>
<collision>
<origin xyz="-0.081395940769996399933 -0.54244426802547995869 -0.061495438727617576791" rpy="1.7453292519943297556 -4.2001897567203805652e-16 2.3527212926223181141e-30" />
<geometry>
<mesh filename="./urdf_finger_proximal.stl"/>
</geometry>
</collision>
<inertial>
<origin xyz="-0.002337546325976241901 0.023999998253825705063 -3.4234414747480461344e-09" rpy="0 0 0"/>
<mass value="0.017237431172515048361" />
<inertia ixx="3.2796100873748338587e-06" ixy="-2.4787878050339225515e-13"  ixz="4.3676988694551090822e-13" iyy="8.3091893062354268358e-07" iyz="-6.0838832786177470042e-14" izz="3.2415371409603666462e-06" />
</inertial>
</link>

<link name="urdf_finger_distal_7">
<visual>
<origin xyz="-0.081281787715045752951 -0.59056528241925132505 -0.061495438727617382502" rpy="1.7453292519943297556 -2.9755429575730655684e-16 -8.2001676705559847608e-31" />
<geometry>
<mesh filename="./urdf_finger_distal.stl"/>
</geometry>
<material name="urdf_finger_distal_material">
<color rgba="0.90196078431372550543 0.90196078431372550543 0.90196078431372550543 1.0"/>
</material>
</visual>
<collision>
<origin xyz="-0.081281787715045752951 -0.59056528241925132505 -0.061495438727617382502" rpy="1.7453292519943297556 -2.9755429575730655684e-16 -8.2001676705559847608e-31" />
<geometry>
<mesh filename="./urdf_finger_distal.stl"/>
</geometry>
</collision>
<inertial>
<origin xyz="-0.0040572256874689266448 0.024625911989551330095 -1.8077329147492271488e-08" rpy="0 0 0"/>
<mass value="0.017727854940120840038" />
<inertia ixx="3.2103559738202121377e-06" ixy="4.3523325608261744223e-07"  ixz="2.2812163348780015954e-12" iyy="9.9539225899604373107e-07" iyz="-6.0407081607896689449e-12" izz="3.1902417616991339474e-06" />
</inertial>
</link>

<joint name="index_right_distal" type="revolute">
<origin xyz="2.0816681711721685133e-17 0.048000000000000042633 9.7144514654701197287e-17" rpy="1.895664126581919506e-15 1.1546319456101489181e-14 -2.3753130541858614063e-15" />
<parent link="urdf_finger_proximal_7" />
<child link="urdf_finger_distal_7" />
<axis xyz="0 0 1"/>
<limit effort="1" velocity="20" lower="0" upper="1.570796326794896558"/>
<joint_properties friction="0.0"/>
</joint>

<joint name="index_right_proximal" type="revolute">
<origin xyz="0.0029999999999999818479 -0.088617509999999954928 0.0081019799999997865747" rpy="0.17453292519942875671 -7.9022604436745628712e-15 3.1415926535897744643" />
<parent link="urdf_palm_right" />
<child link="urdf_finger_proximal_7" />
<axis xyz="0 0 1"/>
<limit effort="1" velocity="20" lower="0" upper="1.570796326794896558"/>
<joint_properties friction="0.0"/>
</joint>

<link name="urdf_finger_proximal_8">
<visual>
<origin xyz="-0.081395940769996399933 -0.54244426802548029176 -0.061495438727617729446" rpy="1.7453292519943297556 -4.2001897567203899329e-16 -6.3690997773111908306e-30" />
<geometry>
<mesh filename="./urdf_finger_proximal.stl"/>
</geometry>
<material name="urdf_finger_proximal_material">
<color rgba="0.90196078431372550543 0.90196078431372550543 0.90196078431372550543 1.0"/>
</material>
</visual>
<collision>
<origin xyz="-0.081395940769996399933 -0.54244426802548029176 -0.061495438727617729446" rpy="1.7453292519943297556 -4.2001897567203899329e-16 -6.3690997773111908306e-30" />
<geometry>
<mesh filename="./urdf_finger_proximal.stl"/>
</geometry>
</collision>
<inertial>
<origin xyz="-0.002337546325976241901 0.023999998253825371997 -3.4234416135259242126e-09" rpy="0 0 0"/>
<mass value="0.017237431172515048361" />
<inertia ixx="3.2796100873748338587e-06" ixy="-2.4787878050339230564e-13"  ixz="4.3676988694551080725e-13" iyy="8.3091893062354268358e-07" iyz="-6.0838833046548723715e-14" izz="3.2415371409603653756e-06" />
</inertial>
</link>

<link name="urdf_finger_distal_8">
<visual>
<origin xyz="-0.081281787715045739073 -0.5905652824192515471 -0.061495438727617701691" rpy="1.7453292519943297556 -2.9755429575730137994e-16 -4.5670371790464979615e-31" />
<geometry>
<mesh filename="./urdf_finger_distal.stl"/>
</geometry>
<material name="urdf_finger_distal_material">
<color rgba="0.90196078431372550543 0.90196078431372550543 0.90196078431372550543 1.0"/>
</material>
</visual>
<collision>
<origin xyz="-0.081281787715045739073 -0.5905652824192515471 -0.061495438727617701691" rpy="1.7453292519943297556 -2.9755429575730137994e-16 -4.5670371790464979615e-31" />
<geometry>
<mesh filename="./urdf_finger_distal.stl"/>
</geometry>
</collision>
<inertial>
<origin xyz="-0.004057225687468912767 0.02462591198955110805 -1.8077329480559178876e-08" rpy="0 0 0"/>
<mass value="0.017727854940120840038" />
<inertia ixx="3.2103559738202121377e-06" ixy="4.3523325608261744223e-07"  ixz="2.2812163348661052195e-12" iyy="9.9539225899604351931e-07" iyz="-6.0407081603933605742e-12" izz="3.1902417616991331003e-06" />
</inertial>
</link>

<joint name="middle_right_distal" type="revolute">
<origin xyz="6.9388939039072283776e-18 0.047999999999999820588 -5.5511151231257827021e-17" rpy="1.7938038903877446291e-16 -1.4042463755251398898e-29 -3.7682219008385338759e-15" />
<parent link="urdf_finger_proximal_8" />
<child link="urdf_finger_distal_8" />
<axis xyz="0 0 1"/>
<limit effort="1" velocity="20" lower="0" upper="1.570796326794896558"/>
<joint_properties friction="0.0"/>
</joint>

<joint name="middle_right_proximal" type="revolute">
<origin xyz="0.0029999999999999957256 -0.099999999999999866773 -0.01770000000000016005" rpy="-1.9967346175463014637e-16 4.7743279131871830438e-16 3.1415926535897771288" />
<parent link="urdf_palm_right" />
<child link="urdf_finger_proximal_8" />
<axis xyz="0 0 1"/>
<limit effort="1" velocity="20" lower="0" upper="1.570796326794896558"/>
<joint_properties friction="0.0"/>
</joint>

<link name="urdf_finger_proximal_9">
<visual>
<origin xyz="-0.081395940769996413811 -0.54244426802548006972 -0.06149543872761764618" rpy="1.7453292519943297556 -4.2001897567204037379e-16 1.6462142959986574996e-31" />
<geometry>
<mesh filename="./urdf_finger_proximal.stl"/>
</geometry>
<material name="urdf_finger_proximal_material">
<color rgba="0.90196078431372550543 0.90196078431372550543 0.90196078431372550543 1.0"/>
</material>
</visual>
<collision>
<origin xyz="-0.081395940769996413811 -0.54244426802548006972 -0.06149543872761764618" rpy="1.7453292519943297556 -4.2001897567204037379e-16 1.6462142959986574996e-31" />
<geometry>
<mesh filename="./urdf_finger_proximal.stl"/>
</geometry>
</collision>
<inertial>
<origin xyz="-0.0023375463259762557788 0.023999998253825483019 -3.4234415857703481834e-09" rpy="0 0 0"/>
<mass value="0.017237431172515048361" />
<inertia ixx="3.2796100873748338587e-06" ixy="-2.4787878050339230564e-13"  ixz="4.3676988694551100919e-13" iyy="8.309189306235425777e-07" iyz="-6.0838833371299231406e-14" izz="3.2415371409603679167e-06" />
</inertial>
</link>

<link name="urdf_finger_distal_9">
<visual>
<origin xyz="-0.081281787715045766829 -0.59056528241925121403 -0.061495438727617535157" rpy="1.7453292519943297556 -2.9755429575731434684e-16 -1.8480603396716468065e-29" />
<geometry>
<mesh filename="./urdf_finger_distal.stl"/>
</geometry>
<material name="urdf_finger_distal_material">
<color rgba="0.90196078431372550543 0.90196078431372550543 0.90196078431372550543 1.0"/>
</material>
</visual>
<collision>
<origin xyz="-0.081281787715045766829 -0.59056528241925121403 -0.061495438727617535157" rpy="1.7453292519943297556 -2.9755429575731434684e-16 -1.8480603396716468065e-29" />
<geometry>
<mesh filename="./urdf_finger_distal.stl"/>
</geometry>
</collision>
<inertial>
<origin xyz="-0.0040572256874689405226 0.024625911989551552139 -1.8077329272392361759e-08" rpy="0 0 0"/>
<mass value="0.017727854940120840038" />
<inertia ixx="3.2103559738202121377e-06" ixy="4.3523325608261749517e-07"  ixz="2.2812163348898983752e-12" iyy="9.9539225899604394283e-07" iyz="-6.0407081610536284176e-12" izz="3.1902417616991339474e-06" />
</inertial>
</link>

<joint name="ring_right_distal" type="revolute">
<origin xyz="2.4286128663675299322e-17 0.047999999999999820588 -3.3306690738754696213e-16" rpy="-7.6107358035160201657e-16 -2.3564205314604841053e-15 -9.0136550186652616342e-14" />
<parent link="urdf_finger_proximal_9" />
<child link="urdf_finger_distal_9" />
<axis xyz="0 0 1"/>
<limit effort="1" velocity="20" lower="0" upper="1.570796326794896558"/>
<joint_properties friction="0.0"/>
</joint>

<joint name="ring_right_proximal" type="revolute">
<origin xyz="0.0030000000000000096034 -0.088617509999999954928 -0.043501979999999912385" rpy="-0.17453292519943275352 -1.4257283672261342108e-16 3.1415926535897789051" />
<parent link="urdf_palm_right" />
<child link="urdf_finger_proximal_9" />
<axis xyz="0 0 1"/>
<limit effort="1" velocity="20" lower="0" upper="1.570796326794896558"/>
<joint_properties friction="0.0"/>
</joint>

<link name="urdf_finger_proximal_10">
<visual>
<origin xyz="-0.081395940769996399933 -0.54244426802548029176 -0.061495438727617535157" rpy="1.7453292519943297556 -4.2001897567204219804e-16 1.1246484746163073821e-30" />
<geometry>
<mesh filename="./urdf_finger_proximal.stl"/>
</geometry>
<material name="urdf_finger_proximal_material">
<color rgba="0.90196078431372550543 0.90196078431372550543 0.90196078431372550543 1.0"/>
</material>
</visual>
<collision>
<origin xyz="-0.081395940769996399933 -0.54244426802548029176 -0.061495438727617535157" rpy="1.7453292519943297556 -4.2001897567204219804e-16 1.1246484746163073821e-30" />
<geometry>
<mesh filename="./urdf_finger_proximal.stl"/>
</geometry>
</collision>
<inertial>
<origin xyz="-0.002337546325976241901 0.023999998253825260974 -3.4234414469924701052e-09" rpy="0 0 0"/>
<mass value="0.017237431172515048361" />
<inertia ixx="3.2796100873748338587e-06" ixy="-2.4787878050339225515e-13"  ixz="4.3676988694551090822e-13" iyy="8.309189306235425777e-07" iyz="-6.0838832963381857402e-14" izz="3.2415371409603674932e-06" />
</inertial>
</link>

<link name="urdf_finger_distal_10">
<visual>
<origin xyz="-0.081281787715045739073 -0.59056528241925132505 -0.061495438727617535157" rpy="1.7453292519943297556 -2.9801202395369849479e-16 -3.4275839152270891641e-18" />
<geometry>
<mesh filename="./urdf_finger_distal.stl"/>
</geometry>
<material name="urdf_finger_distal_material">
<color rgba="0.90196078431372550543 0.90196078431372550543 0.90196078431372550543 1.0"/>
</material>
</visual>
<collision>
<origin xyz="-0.081281787715045739073 -0.59056528241925132505 -0.061495438727617535157" rpy="1.7453292519943297556 -2.9801202395369849479e-16 -3.4275839152270891641e-18" />
<geometry>
<mesh filename="./urdf_finger_distal.stl"/>
</geometry>
</collision>
<inertial>
<origin xyz="-0.0040572256874689266448 0.024625911989551330095 -1.8077329300147937374e-08" rpy="0 0 0"/>
<mass value="0.017727854940120840038" />
<inertia ixx="3.2103559738202112906e-06" ixy="4.3523325608261738929e-07"  ixz="2.2812163348688089046e-12" iyy="9.9539225899604373107e-07" iyz="-6.0407081610014271817e-12" izz="3.1902417616991331003e-06" />
</inertial>
</link>

<joint name="pinky_right_distal" type="revolute">
<origin xyz="2.7755575615628913511e-17 0.047999999999999820588 2.2204460492503130808e-16" rpy="2.281694841159882425e-15 -2.6408619738520520972e-15 0.087928922311172039161" />
<parent link="urdf_finger_proximal_10" />
<child link="urdf_finger_distal_10" />
<axis xyz="0 0 1"/>
<limit effort="1" velocity="20" lower="0" upper="1.570796326794896558"/>
<joint_properties friction="0.0"/>
</joint>

<joint name="pinky_right_proximal" type="revolute">
<origin xyz="0.0030000000000000512368 -0.075546139999999928349 -0.065820550000000255242" rpy="-0.3141592653589848072 -3.7826035582164112523e-15 3.1415926535897771288" />
<parent link="urdf_palm_right" />
<child link="urdf_finger_proximal_10" />
<axis xyz="0 0 1"/>
<limit effort="1" velocity="20" lower="0" upper="1.570796326794896558"/>
<joint_properties friction="0.0"/>
</joint>

<joint name="wrist_right" type="revolute">
<origin xyz="0.014999999999992481153 0.024999999999990474286 -0.15439999999999853841" rpy="1.570796326794896336 -1.6849081576833351553e-14 -3.1415926535897771288" />
<parent link="urdf_forearm_2" />
<child link="urdf_palm_right" />
<axis xyz="0 0 1"/>
<limit effort="1" velocity="20" lower="-0.52359877559829881566" upper="0.52359877559829881566"/>
<joint_properties friction="0.0"/>
</joint>

<joint name="forearm_right" type="revolute">
<origin xyz="0.076438243046270615277 0.046739758236434170158 -0.037799999999999951694" rpy="0.7853981633974851384 -1.5707963267948850117 0" />
<parent link="urdf_elbow-lower_2" />
<child link="urdf_forearm_2" />
<axis xyz="0 0 1"/>
<limit effort="1" velocity="20" lower="-1.570796326794896558" upper="1.570796326794896558"/>
<joint_properties friction="0.0"/>
</joint>

<joint name="elbow_right" type="revolute">
<origin xyz="-0.037899999999999982314 -0.020999999999997687183 -0.076337859999996593441" rpy="-3.1415926535897926719 1.570796326794881681 0" />
<parent link="urdf_elbow-upper_2" />
<child link="urdf_elbow-lower_2" />
<axis xyz="0 0 1"/>
<limit effort="1" velocity="20" lower="-0.785398163397448279" upper="1.570796326794896558"/>
<joint_properties friction="0.0"/>
</joint>

<joint name="upper_arm_right" type="revolute">
<origin xyz="0.14000000000000023537 3.9898639947466563171e-17 -0.037200000000000787992" rpy="-1.5707963267948961139 5.2186995640945646394e-15 1.5707963267948894526" />
<parent link="urdf_shoulder_horizontal_2" />
<child link="urdf_elbow-upper_2" />
<axis xyz="0 0 1"/>
<limit effort="1" velocity="20" lower="-1.570796326794896558" upper="1.570796326794896558"/>
<joint_properties friction="0.0"/>
</joint>

<joint name="shoulder_horizontal_right" type="revolute">
<origin xyz="-6.4184768611141862493e-16 -0.037495364809999709443 0.059000000000000080158" rpy="1.5707963267948992225 -1.5707963267948956698 0" />
<parent link="urdf_shoulder_vertical_2" />
<child link="urdf_shoulder_horizontal_2" />
<axis xyz="0 0 1"/>
<limit effort="1" velocity="20" lower="-1.570796326794896558" upper="1.570796326794896558"/>
<joint_properties friction="0.0"/>
</joint>

<joint name="shoulder_vertical_right" type="revolute">
<origin xyz="-0.1731329875821712716 0.012565756136336734411 0.83568843836869388664" rpy="-1.570796326794896558 -0 1.570796326794896558" />
<parent link="urdf_body" />
<child link="urdf_shoulder_vertical_2" />
<axis xyz="0 0 1"/>
<limit effort="1" velocity="20" lower="-1.570796326794896558" upper="1.570796326794896558"/>
<joint_properties friction="0.0"/>
</joint>


</robot>
